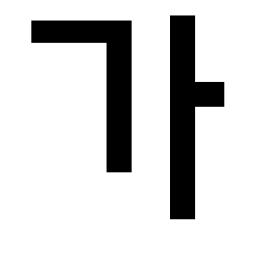Gaji: (158, 71, 213, 121)
